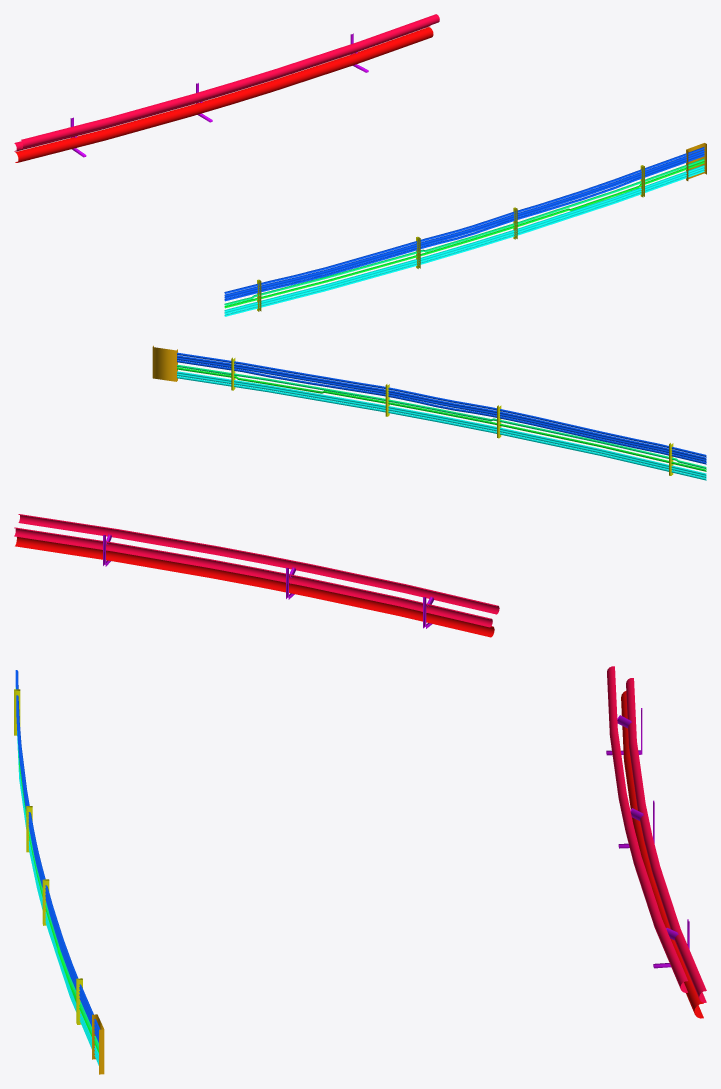
File: Side_Small_Pipes_Bend.FBX
3 views of the same model, one above another, from view 1: azimuth 30°, elevation 25°; view 2: azimuth 150°, elevation 25°; view 3: azimuth 270°, elevation 25° (orthographic). The views are drawn at different scales.
Visible parts, largest first — view 1: Side_Small_Pipes_Bend; view 2: Side_Small_Pipes_Bend; view 3: Side_Small_Pipes_Bend.
Part boxes in pixels (bbox=[...]): Side_Small_Pipes_Bend: bbox=[14, 14, 706, 316]; Side_Small_Pipes_Bend: bbox=[14, 345, 706, 637]; Side_Small_Pipes_Bend: bbox=[14, 666, 706, 1074].
Bounding box in the file's own units: 5.23 × 0.3 × 4.2.
